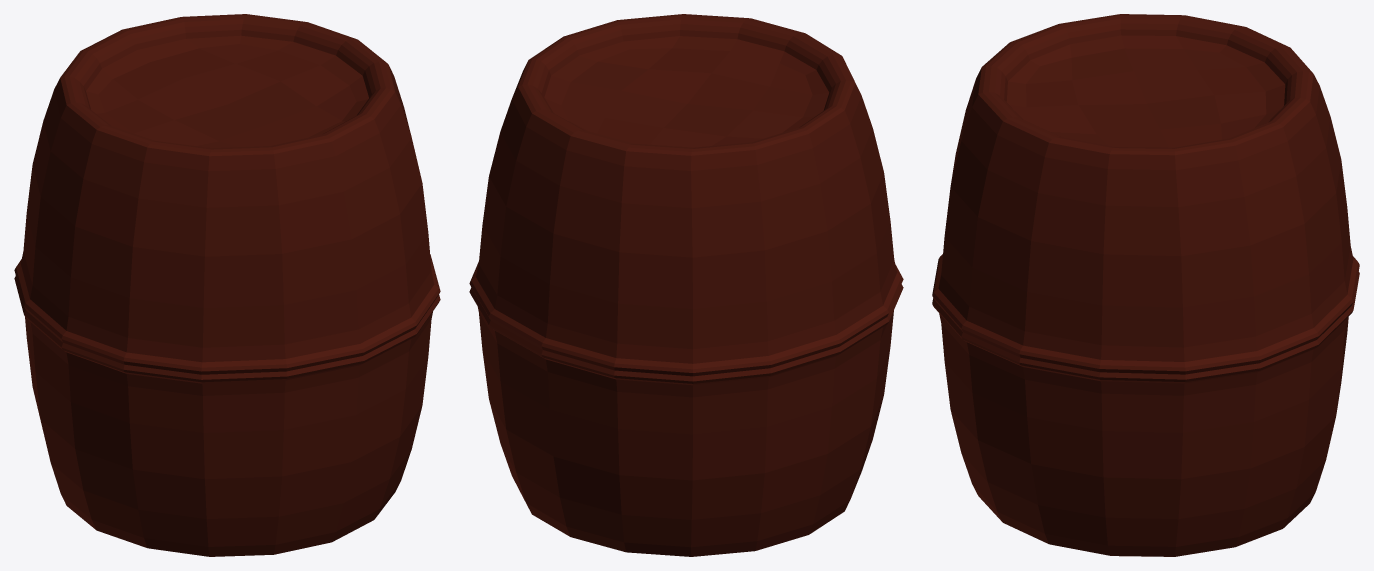
File: Barrel.fbx
3 views of the same model, side by side, from view 1: azimuth 30°, elevation 25°; view 2: azimuth 150°, elevation 25°; view 3: azimuth 270°, elevation 25° (orthographic).
Visible parts, largest first — view 1: barrel; view 2: barrel; view 3: barrel.
Boxes of the visible parts, left/top/right/bottom form: barrel: left=14, top=14, right=440, bottom=556; barrel: left=469, top=14, right=903, bottom=556; barrel: left=932, top=14, right=1359, bottom=556.
Bounding box in the file's own units: 143 × 150 × 143.
